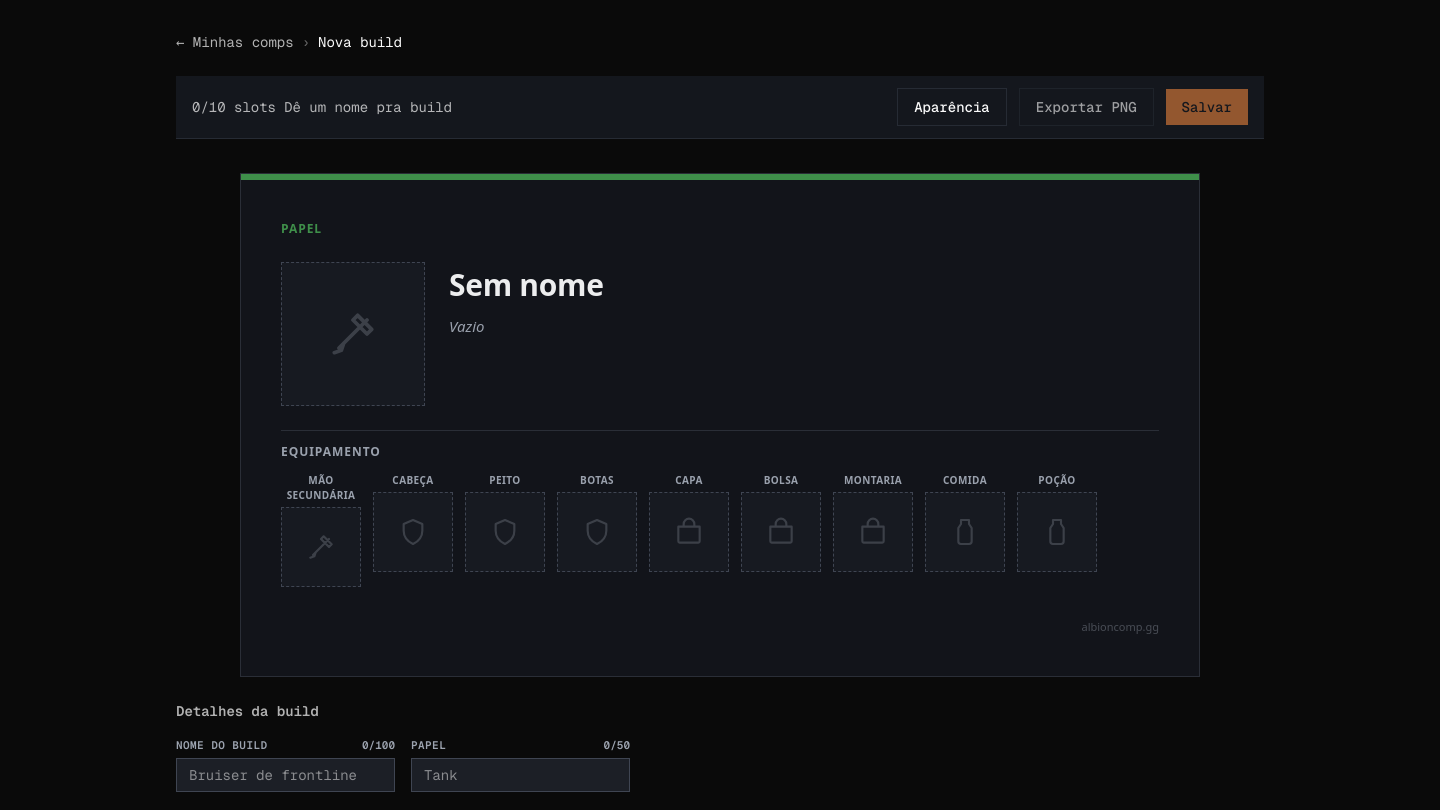
Test case: /build/new — appearance panel layout (ACM-095) › closing the panel removes it and restores the single-column layout
The image size is (1440, 810).
Click the button "Aparência" at [952, 107], box [897,88,1007,126]
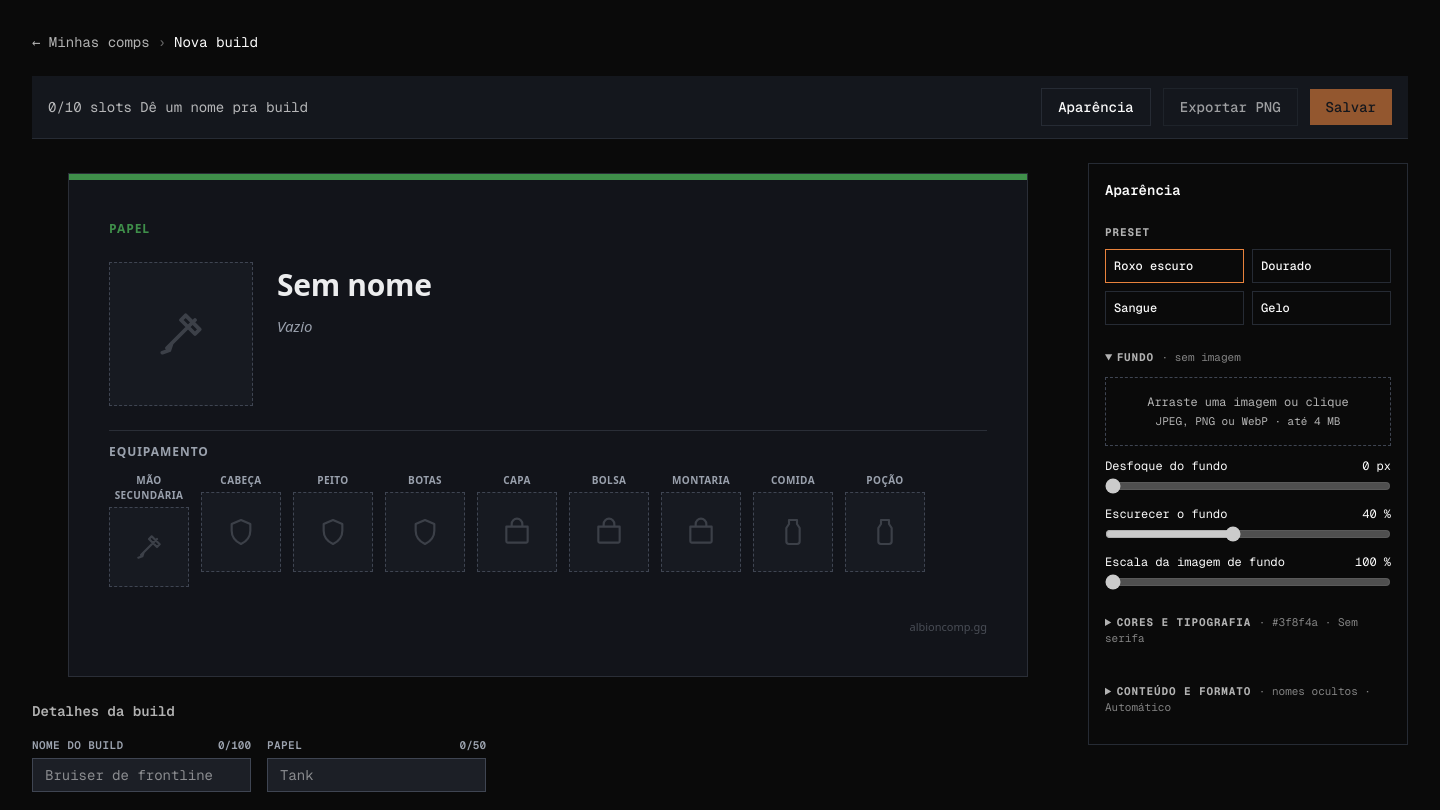
Expected: the element with id "theme-panel" is shown, [1088,163,1408,745]
Click the button "Aparência" at [1096, 107], box [1041,88,1151,126]
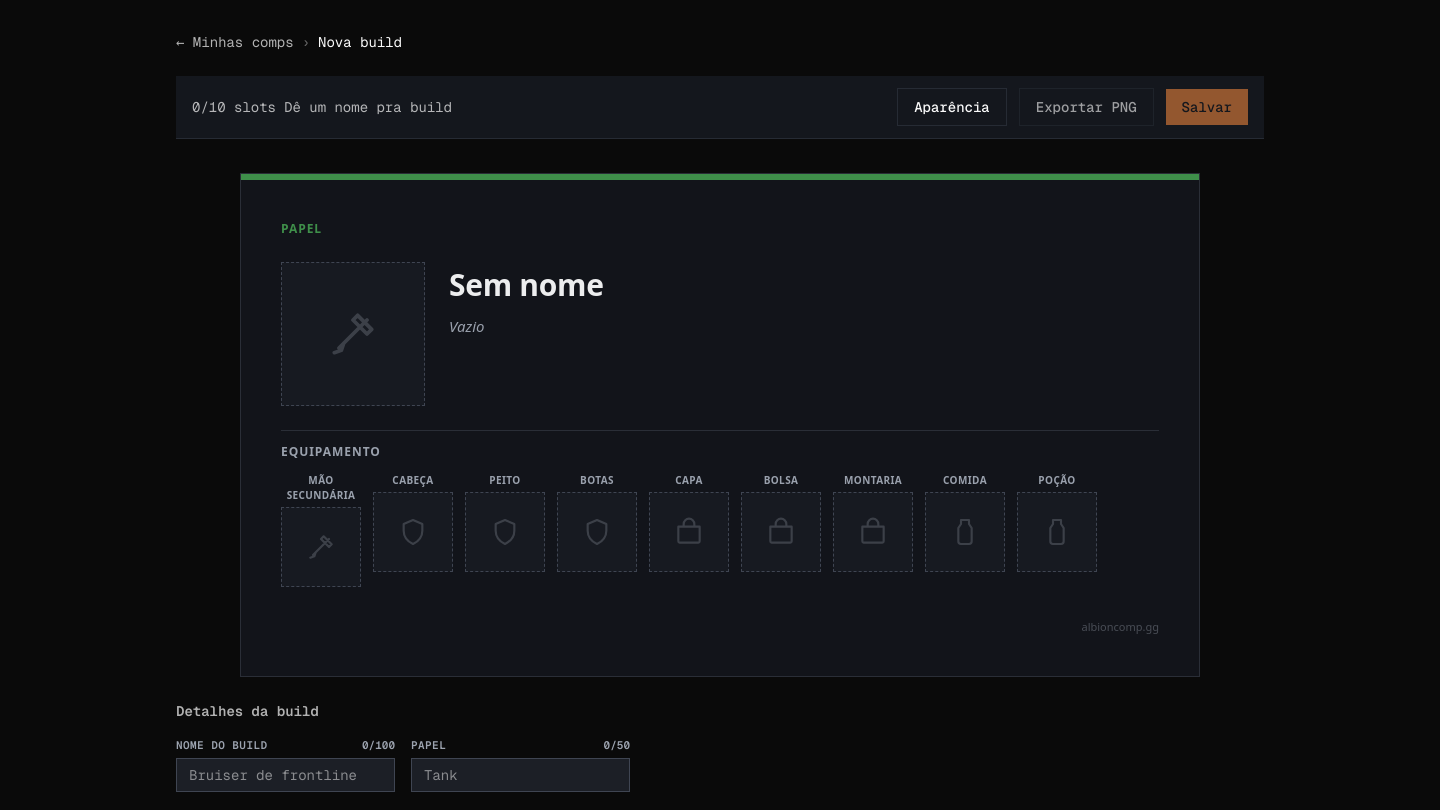
Expected: the element with id "theme-panel" is gone
